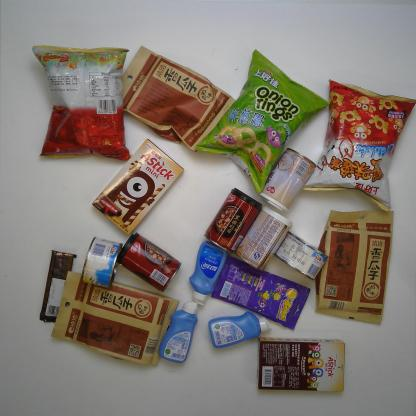Candy: (208, 253, 312, 333)
Canned Food: (256, 144, 321, 214), (113, 231, 184, 294), (202, 185, 264, 257), (233, 203, 294, 274), (272, 229, 331, 282), (80, 235, 124, 291)
Chocolate: (38, 249, 77, 325)
Dessert: (90, 136, 187, 237), (251, 336, 348, 394)
Dried Food: (119, 44, 240, 155), (50, 267, 180, 368), (312, 204, 397, 327)
Personal Hygiene: (157, 299, 201, 365), (188, 238, 229, 307), (207, 310, 273, 351)
Puffed Food: (192, 45, 333, 197), (301, 76, 416, 214), (28, 40, 134, 164)
